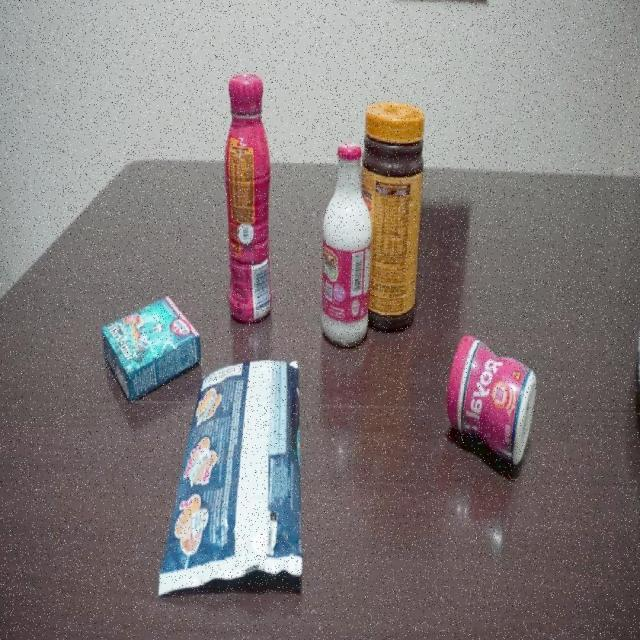ChocolateMilk: (222, 74, 272, 328)
ChocolatePowder: (360, 100, 428, 333)
CoconutMilk: (319, 141, 373, 352)
Gelatine: (99, 295, 203, 407)
Popcorn: (156, 353, 304, 602)
Yeast: (444, 331, 537, 468)
